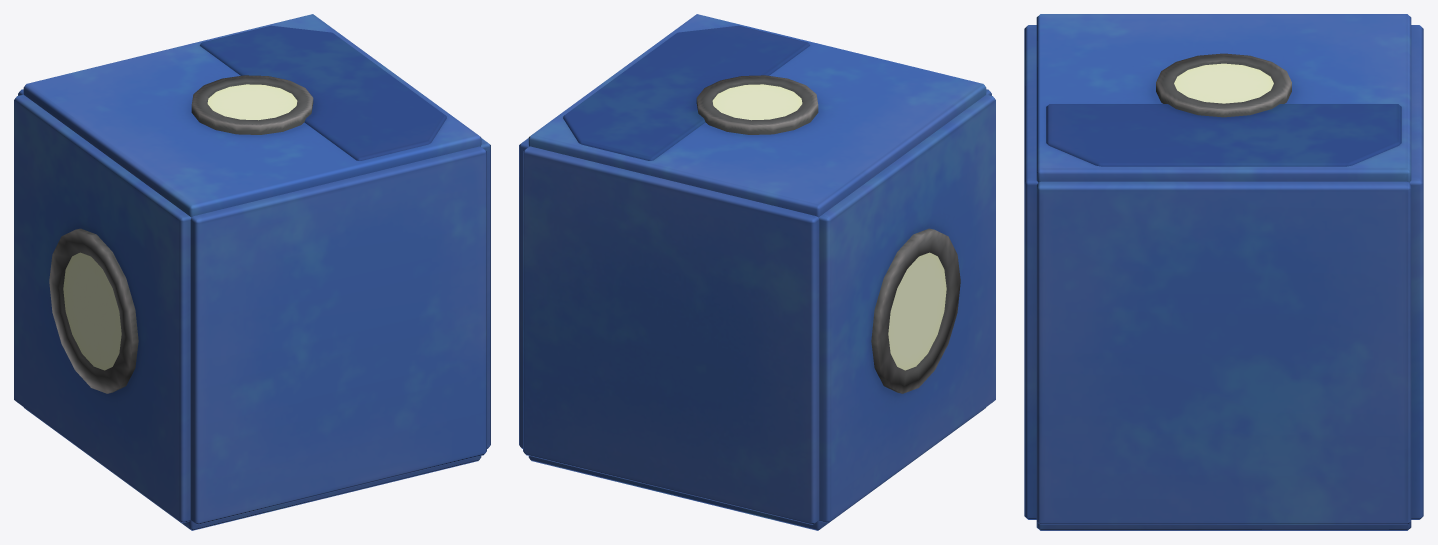
File: LandingPoint_NewBlue.fbx
3 views of the same model, side by side, from view 1: azimuth 30°, elevation 25°; view 2: azimuth 150°, elevation 25°; view 3: azimuth 270°, elevation 25° (orthographic). The views are drawn at different scales.
Visible parts, largest first — view 1: StartingBlue; view 2: StartingBlue; view 3: StartingBlue.
Boxes of the visible parts, x1=… form: StartingBlue: x1=14, y1=14, x2=490, y2=530; StartingBlue: x1=519, y1=14, x2=995, y2=530; StartingBlue: x1=1024, y1=14, x2=1423, y2=530.
Size of the model in its own units: 204 by 205 by 200.
